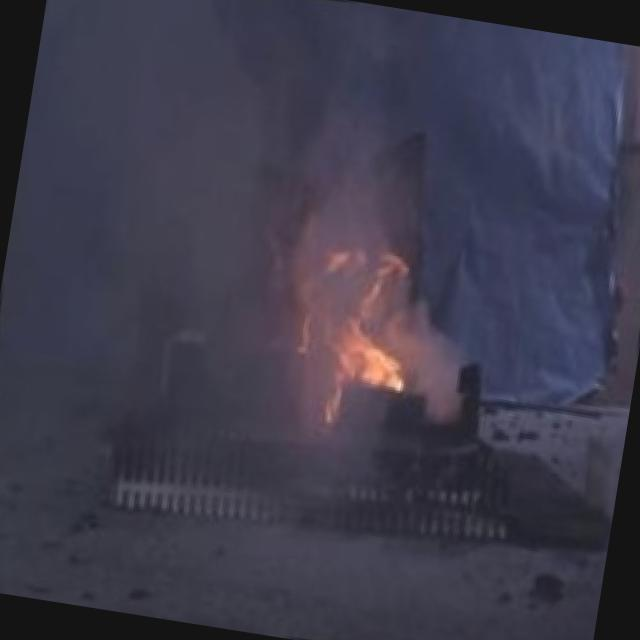fire: (293, 220, 438, 409)
